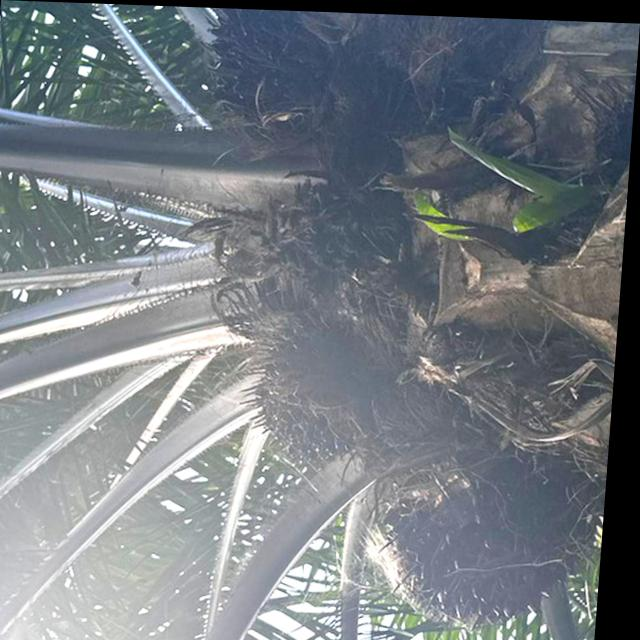unripe: (235, 334, 393, 473)
